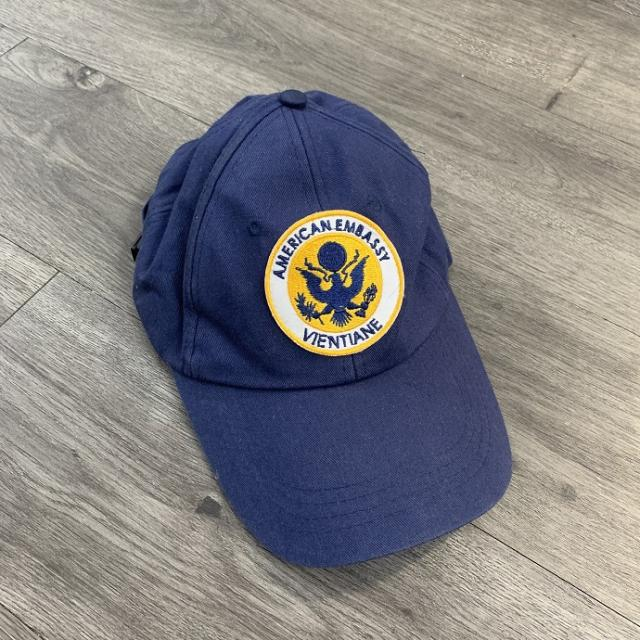Cap: (114, 78, 524, 580)
